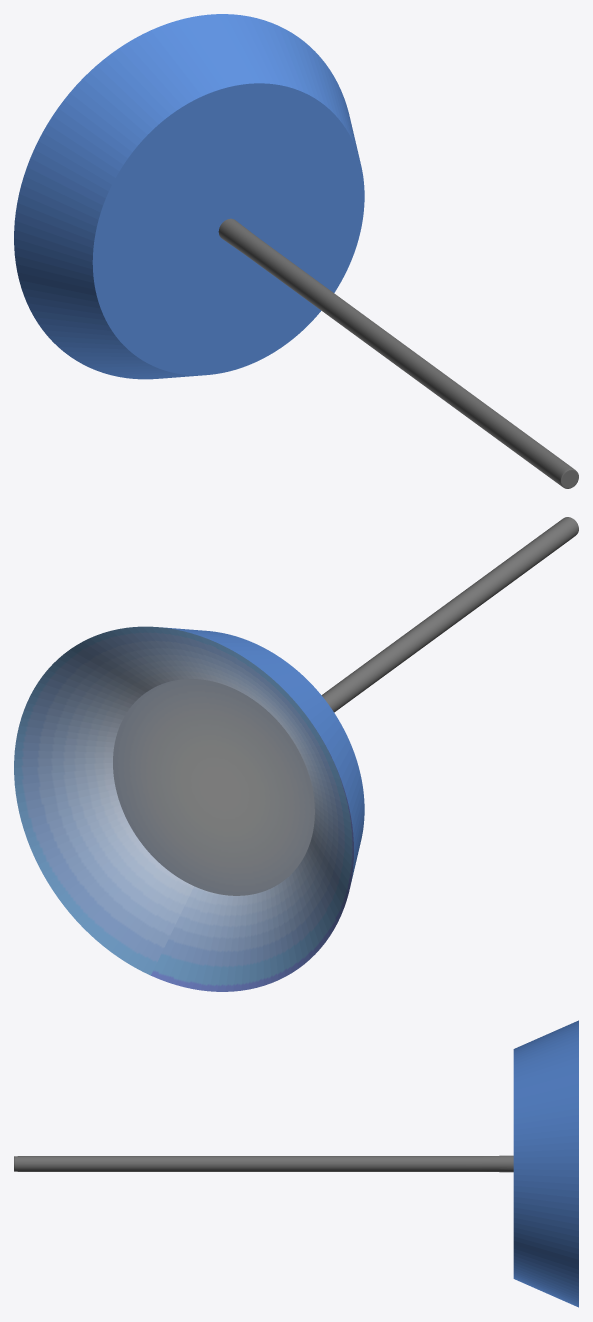
Rendered from rooflamp.glb.
3 renders of one model, top to bottom at view 1: azimuth 30°, elevation 25°; view 2: azimuth 150°, elevation 25°; view 3: azimuth 270°, elevation 25°, orthographic. The views are drawn at different scales.
Visible parts, largest first — view 1: Cylinder; view 2: Cylinder; view 3: Cylinder.
Boxes of the visible parts, x1,y1,x2,y2 form: Cylinder: (14,14,578,488); Cylinder: (14,517,578,991); Cylinder: (14,1020,578,1307).
Size of the model in its own units: 6.22 by 6.22 by 12.23.
Materials: 1 (1 with a texture image).
